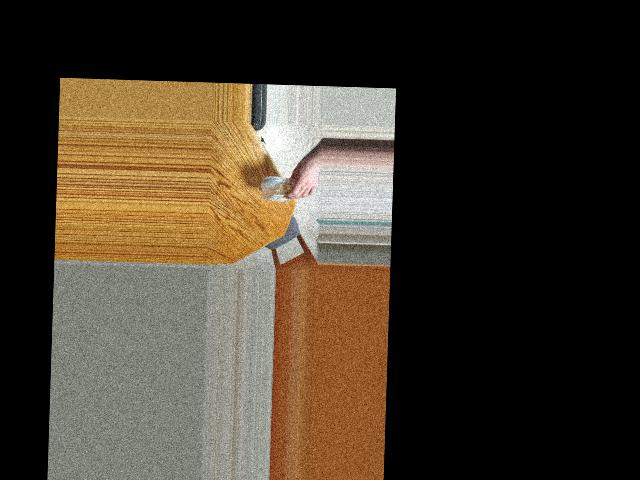cheese: (256, 166, 303, 208)
